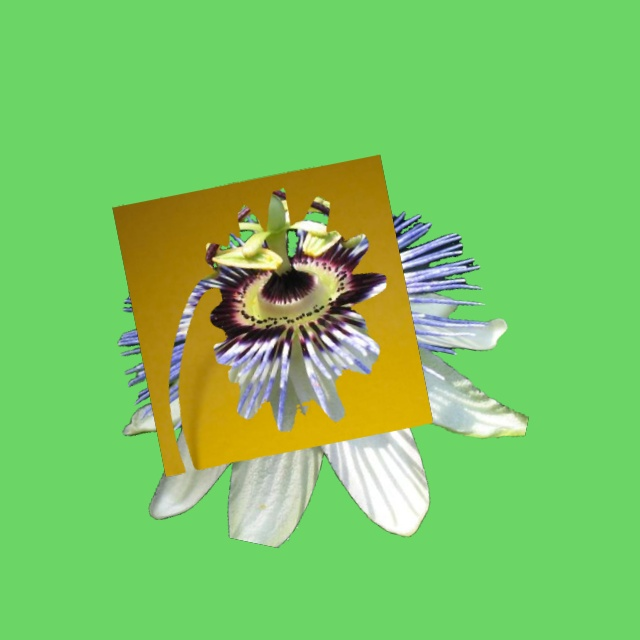dandelion: (113, 155, 432, 476)
jasmine: (266, 511, 299, 540)
passion flower: (118, 186, 528, 547)
ylang-ylang: (291, 224, 388, 348)
